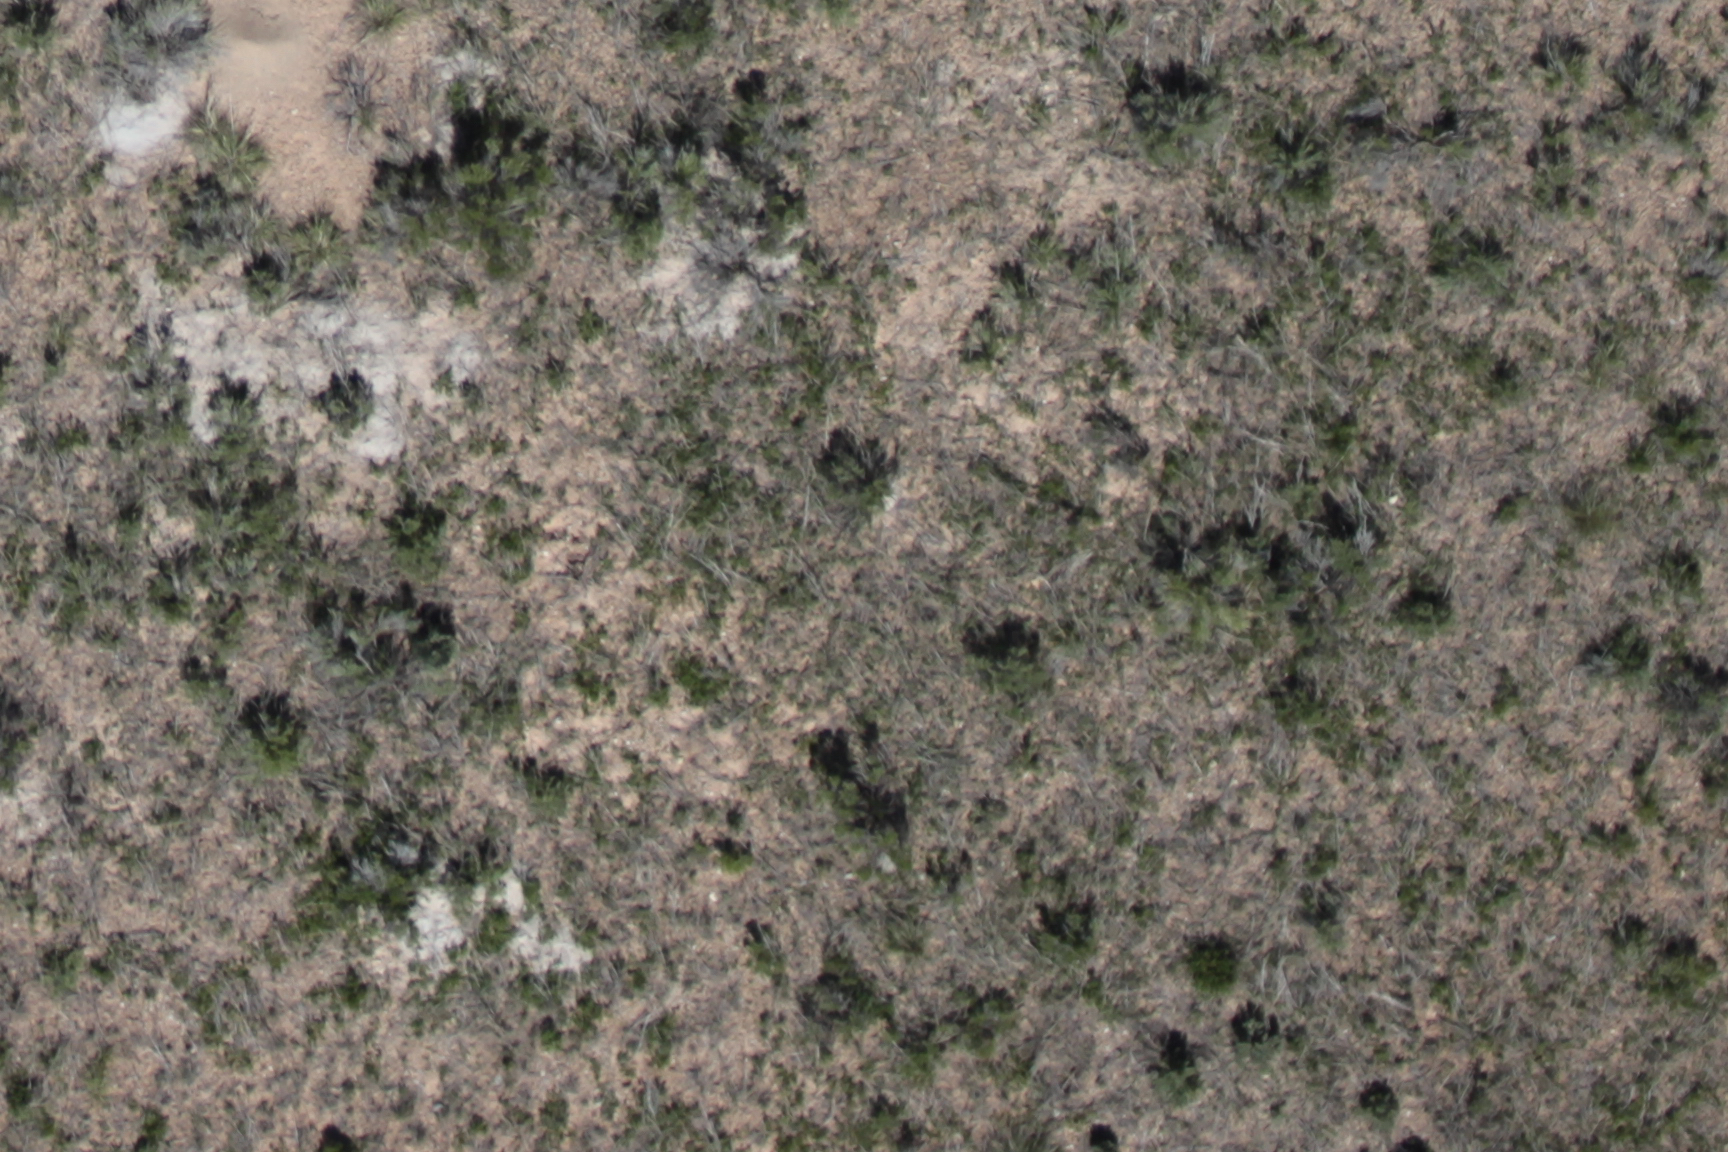burrow: (183, 1, 312, 108)
